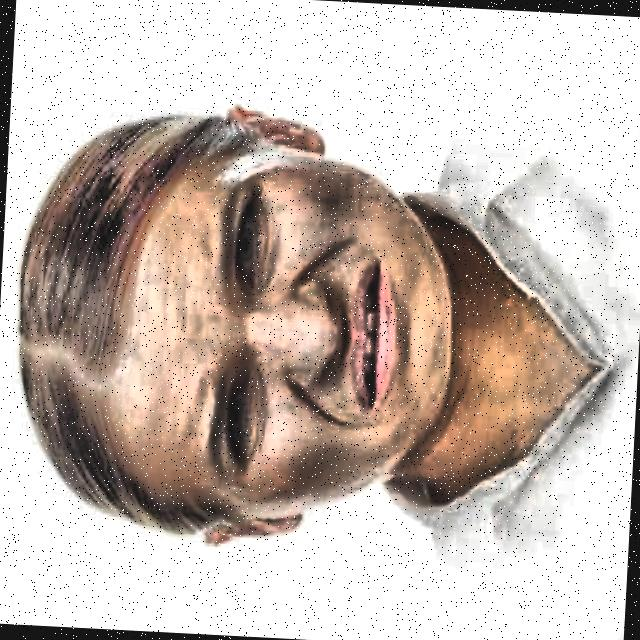disgust: (0, 33, 492, 583)
